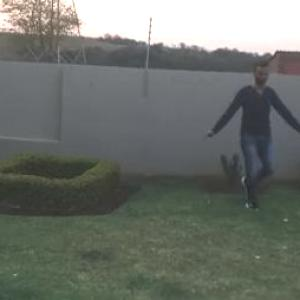land: (208, 72, 299, 215)
